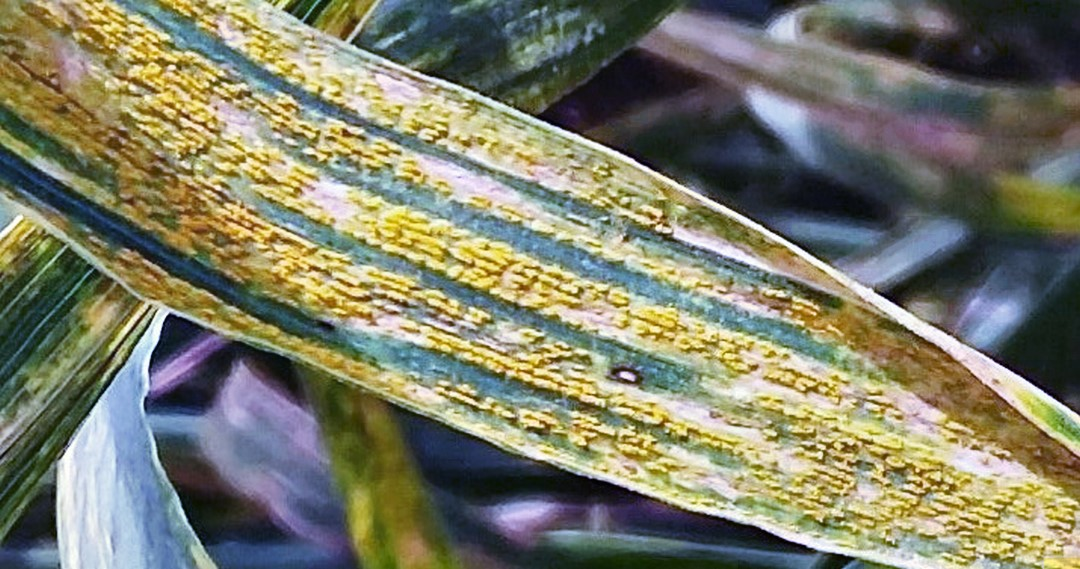Leaf Rust: (113, 38, 853, 535)
